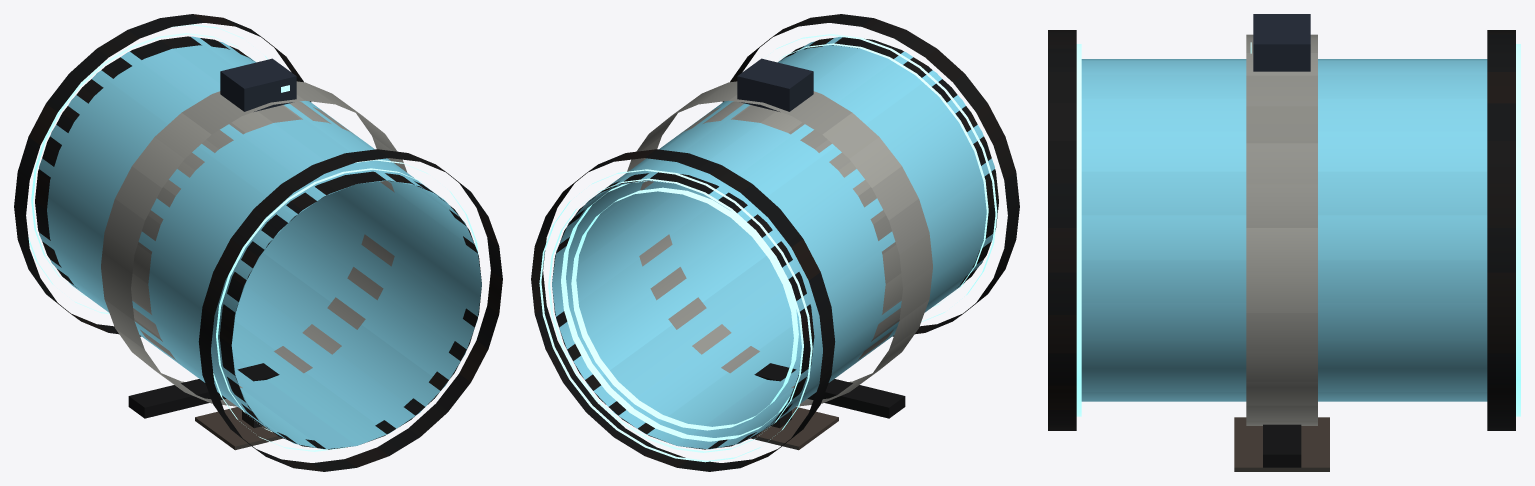
File: concept_tube_straight.glb
The picture shows the model from 3 angles, left to right: view 1: azimuth 30°, elevation 25°; view 2: azimuth 150°, elevation 25°; view 3: azimuth 270°, elevation 25°; orthographic projection. The views are drawn at different scales.
Visible parts, largest first — view 1: Glass, Frame; view 2: Glass, Frame, Pulse; view 3: Glass, Frame.
Boxes of the visible parts, box(x1,y1,x2,y2) form: Glass: box(39, 36, 481, 449); Frame: box(14, 14, 502, 471); Glass: box(552, 37, 994, 449); Frame: box(531, 14, 1019, 471); Pulse: box(561, 180, 798, 441); Glass: box(1081, 59, 1487, 401); Frame: box(1048, 14, 1520, 471).
Bounding box in the file's own units: 1.68 × 1.93 × 1.98.
